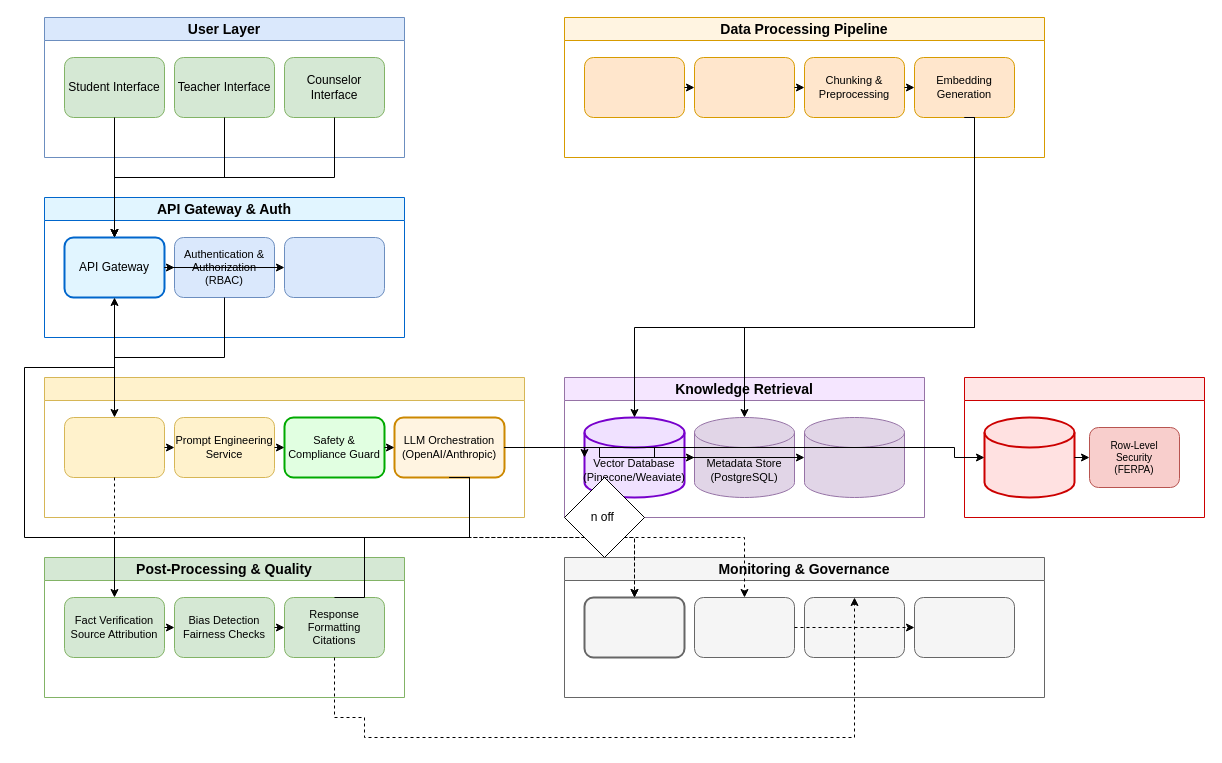
Image size: 1222x763. Some labels were removed from this diagram. Here are the shapes that lost their labels. From the top down, the box of each, then its label:
(584, 56, 684, 118): Document Ingestion
(694, 56, 794, 118): Multi-Format Parser (PDF/DOCX/HTML)
(284, 236, 384, 298): Rate Limiting & Throttling
(64, 416, 164, 478): Query Router & Classifier
(44, 376, 524, 518): AI Orchestration Layer
(804, 416, 904, 498): Semantic Cache (Redis)
(983, 416, 1075, 498): Student Info System (Grades/Attendance)
(964, 376, 1204, 518): Structured Data
(583, 596, 685, 658): Audit Logs
(694, 596, 794, 658): Performance Metrics
(804, 596, 904, 658): User Feedback Loop
(914, 596, 1014, 658): Alerting System
